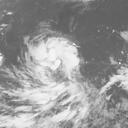cyclone: (19, 32, 81, 111)
